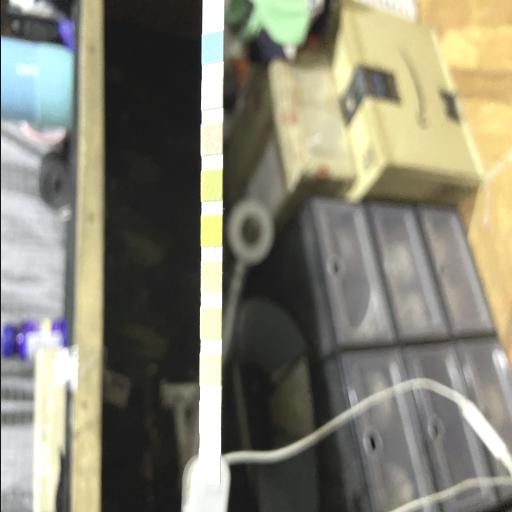Bilirubin: (201, 80, 222, 108)
Blood: (200, 216, 221, 246)
Glucose: (201, 35, 222, 61)
Ketone: (200, 126, 222, 154)
Leukocytes: (198, 454, 219, 480)
Nitrite: (199, 404, 219, 432)
Protein: (200, 308, 220, 338)
SpGravity: (200, 172, 222, 200)
Urobilinogen: (198, 354, 220, 384)
pH: (200, 262, 220, 292)
strip: (198, 0, 224, 485)
